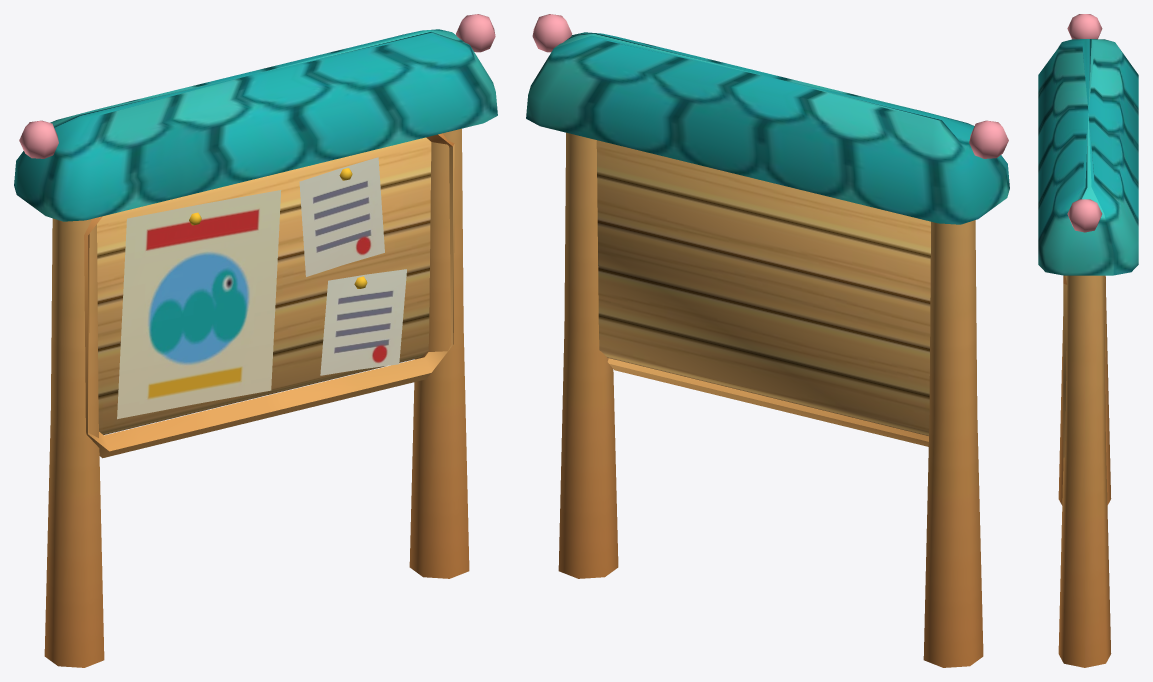
Rendered from notice_board.glb.
3 renders of one model, left to right at view 1: azimuth 30°, elevation 25°; view 2: azimuth 150°, elevation 25°; view 3: azimuth 270°, elevation 25°, orthographic. The views are drawn at different scales.
Parts seen in each view (by area): view 1: notice_board; view 2: notice_board; view 3: notice_board.
Part boxes in pixels (x1,y1,x2,y2): notice_board: (14, 14, 497, 667); notice_board: (526, 14, 1009, 667); notice_board: (1038, 14, 1138, 667).
Bounding box in the file's own units: 2.63 × 2.9 × 0.5601.
3 materials, 3 textured.
